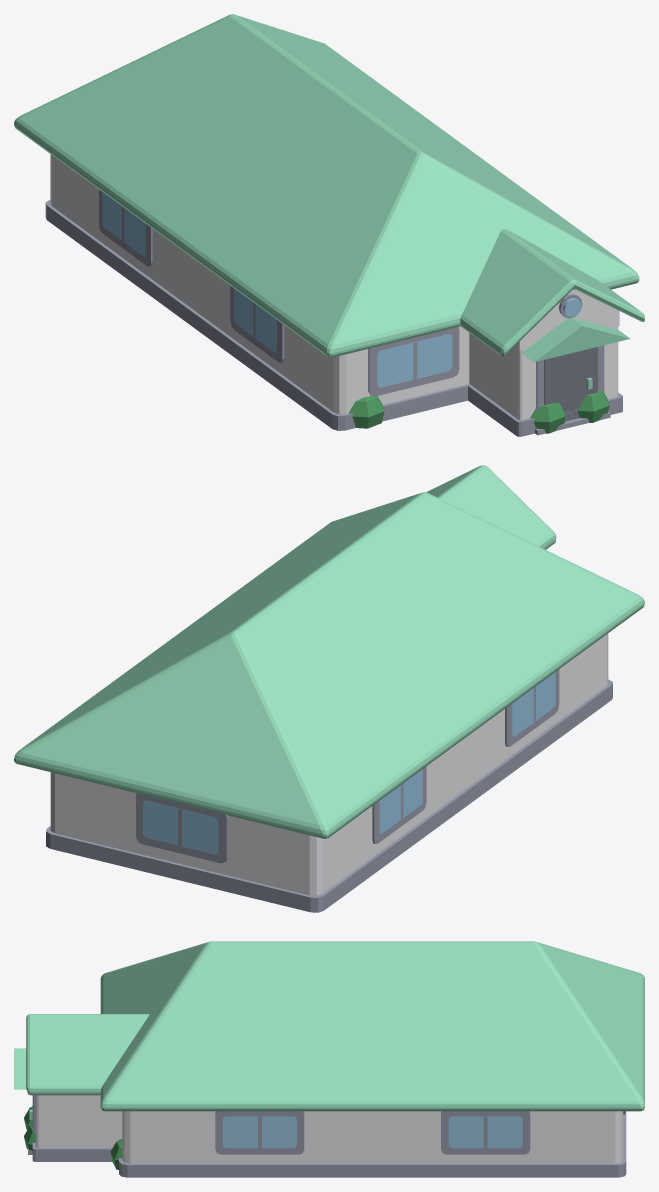
Rendered from house-1x2-1f-mansard-a.glb.
3 views of the same model, one above another, from view 1: azimuth 30°, elevation 25°; view 2: azimuth 150°, elevation 25°; view 3: azimuth 270°, elevation 25° (orthographic). The views are drawn at different scales.
Parts seen in each view (by area): view 1: house-1x2-1f-mansard-a; view 2: house-1x2-1f-mansard-a; view 3: house-1x2-1f-mansard-a.
Boxes of the visible parts, bbox=[...] form: house-1x2-1f-mansard-a: bbox=[14, 14, 644, 436]; house-1x2-1f-mansard-a: bbox=[14, 465, 644, 912]; house-1x2-1f-mansard-a: bbox=[14, 941, 644, 1177].
Size of the model in its own units: 1 by 0.6361 by 2.04.
Materials: 1 (1 with a texture image).
